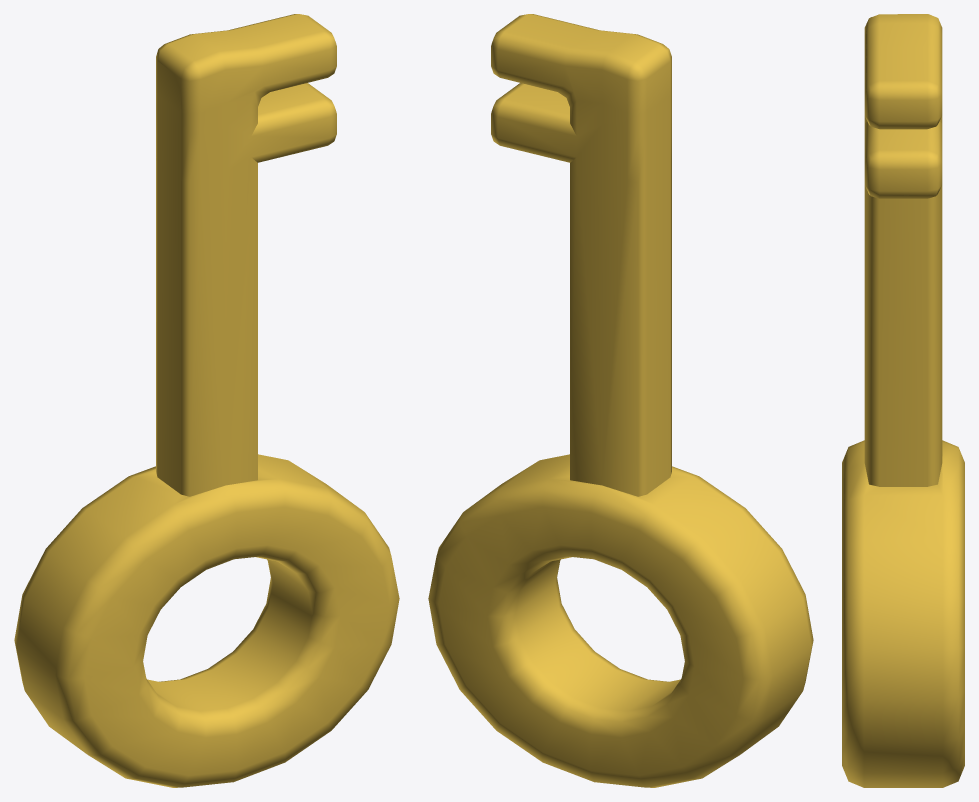
The model's file is key.fbx.
3 views of the same model, side by side, from view 1: azimuth 30°, elevation 25°; view 2: azimuth 150°, elevation 25°; view 3: azimuth 270°, elevation 25° (orthographic). The views are drawn at different scales.
Parts seen in each view (by area): view 1: key; view 2: key; view 3: key.
Part boxes in pixels (left/top/right/bottom): key: left=14, top=14, right=399, bottom=787; key: left=428, top=14, right=813, bottom=787; key: left=842, top=14, right=964, bottom=787.
Size of the model in its own units: 3.06 by 6.19 by 0.9275.
